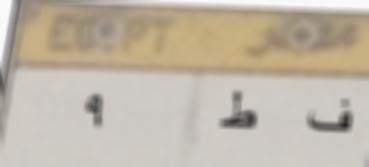9: (68, 88, 118, 134)
Taa: (216, 87, 264, 137)
faa: (294, 94, 358, 142)
